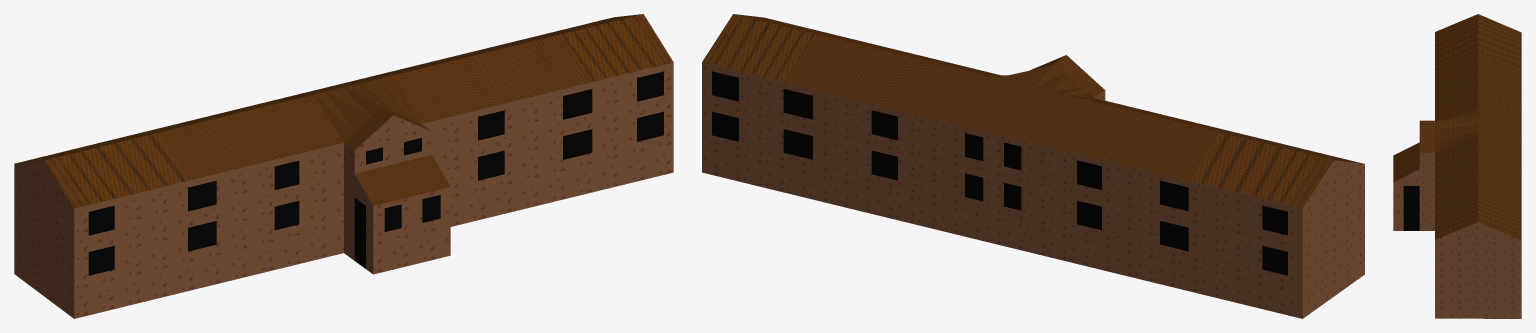
File: williams.obj
3 renders of one model, left to right at view 1: azimuth 30°, elevation 25°; view 2: azimuth 150°, elevation 25°; view 3: azimuth 270°, elevation 25°, orthographic. The views are drawn at different scales.
Size of the model in its own units: 7.23 by 1.57 by 1.88.
